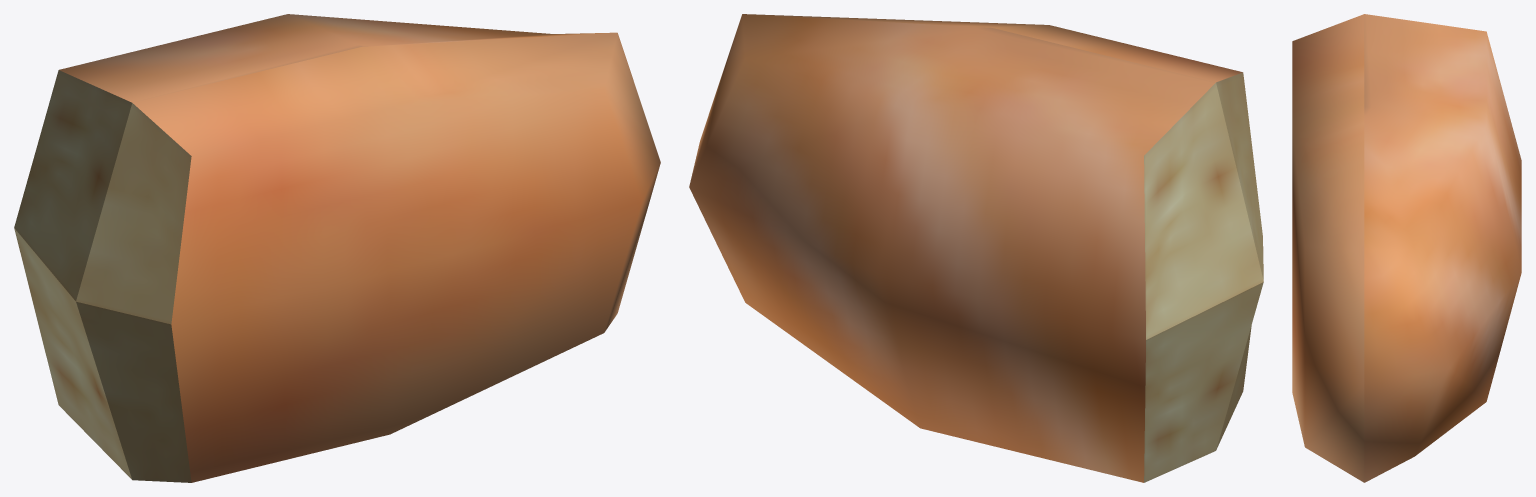
File: Bread_B.fbx
3 renders of one model, left to right at view 1: azimuth 30°, elevation 25°; view 2: azimuth 150°, elevation 25°; view 3: azimuth 270°, elevation 25°, orthographic. The views are drawn at different scales.
Parts seen in each view (by area): view 1: Bread_B; view 2: Bread_B; view 3: Bread_B.
Boxes of the visible parts, x1=… form: Bread_B: x1=14, y1=14, x2=660, y2=482; Bread_B: x1=689, y1=14, x2=1263, y2=482; Bread_B: x1=1292, y1=14, x2=1521, y2=482.
Size of the model in its own units: 0.5297 by 0.3287 by 0.2186.
